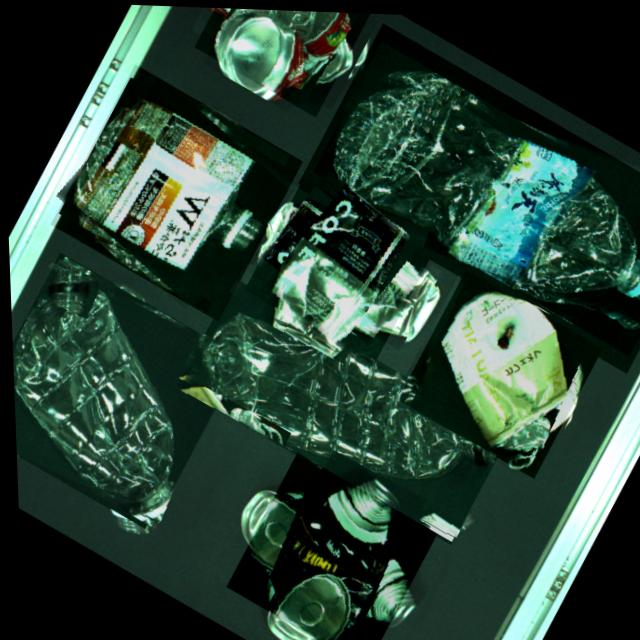Can: (390, 263, 604, 476), (218, 447, 437, 640), (239, 161, 442, 364), (193, 6, 381, 116)
Transparent Plastic Bottle: (292, 16, 640, 369), (171, 273, 509, 543), (44, 60, 307, 322), (7, 250, 244, 534)
